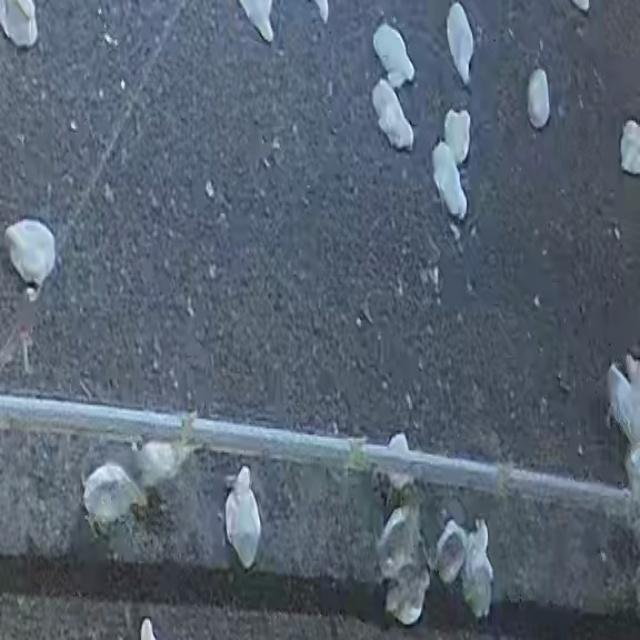chicken: (81, 470, 141, 529), (228, 465, 261, 568), (8, 216, 54, 286), (373, 511, 418, 580), (371, 80, 414, 150), (372, 21, 416, 88), (432, 141, 466, 221), (463, 526, 492, 612), (381, 571, 427, 625), (136, 443, 194, 484), (425, 527, 468, 582), (446, 7, 475, 84), (607, 365, 635, 437), (0, 0, 42, 47), (235, 1, 278, 42), (444, 108, 472, 165), (381, 434, 411, 487), (526, 68, 552, 128), (619, 118, 640, 174)
